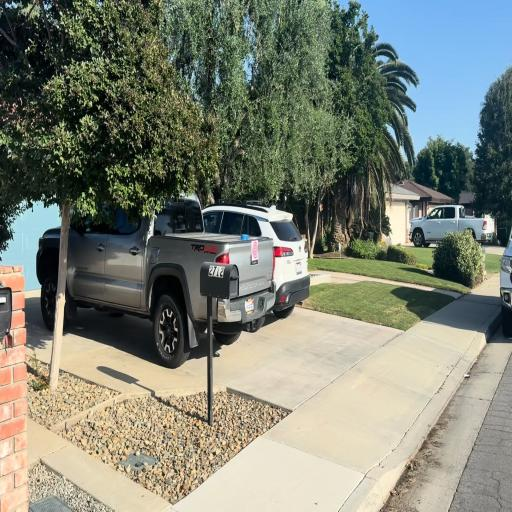bullseye: (252, 240, 258, 261)
